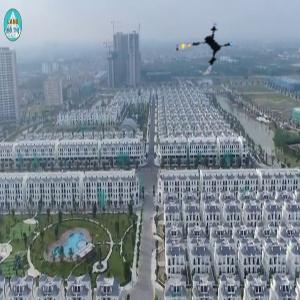drone: (178, 22, 233, 77)
